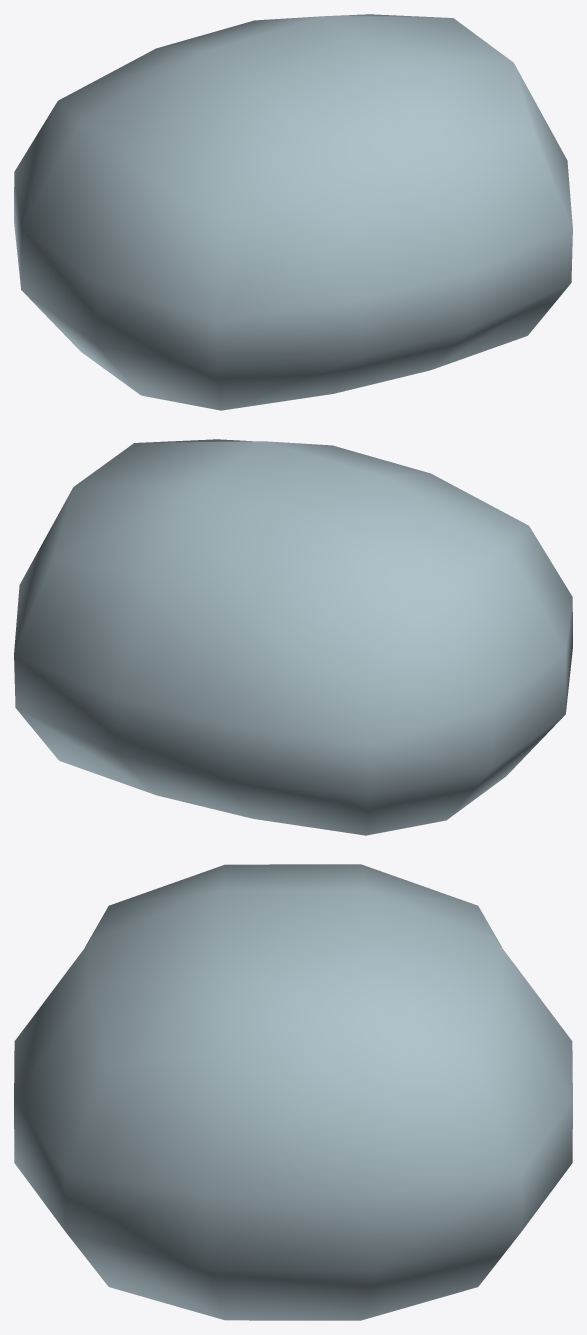
Rendered from Rock_A_01_LOD2.gltf.
The picture shows the model from 3 angles, top to bottom: view 1: azimuth 30°, elevation 25°; view 2: azimuth 150°, elevation 25°; view 3: azimuth 270°, elevation 25°; orthographic projection. The views are drawn at different scales.
Visible parts, largest first — view 1: Rock_A_01_LOD2_Cube.736; view 2: Rock_A_01_LOD2_Cube.736; view 3: Rock_A_01_LOD2_Cube.736.
Part boxes in pixels (x1,y1,x2,y2): Rock_A_01_LOD2_Cube.736: (14,14,572,410); Rock_A_01_LOD2_Cube.736: (14,439,572,835); Rock_A_01_LOD2_Cube.736: (14,864,572,1320).
Size of the model in its own units: 2.72 by 1.54 by 2.48.
Materials: 1 (1 with a texture image).
